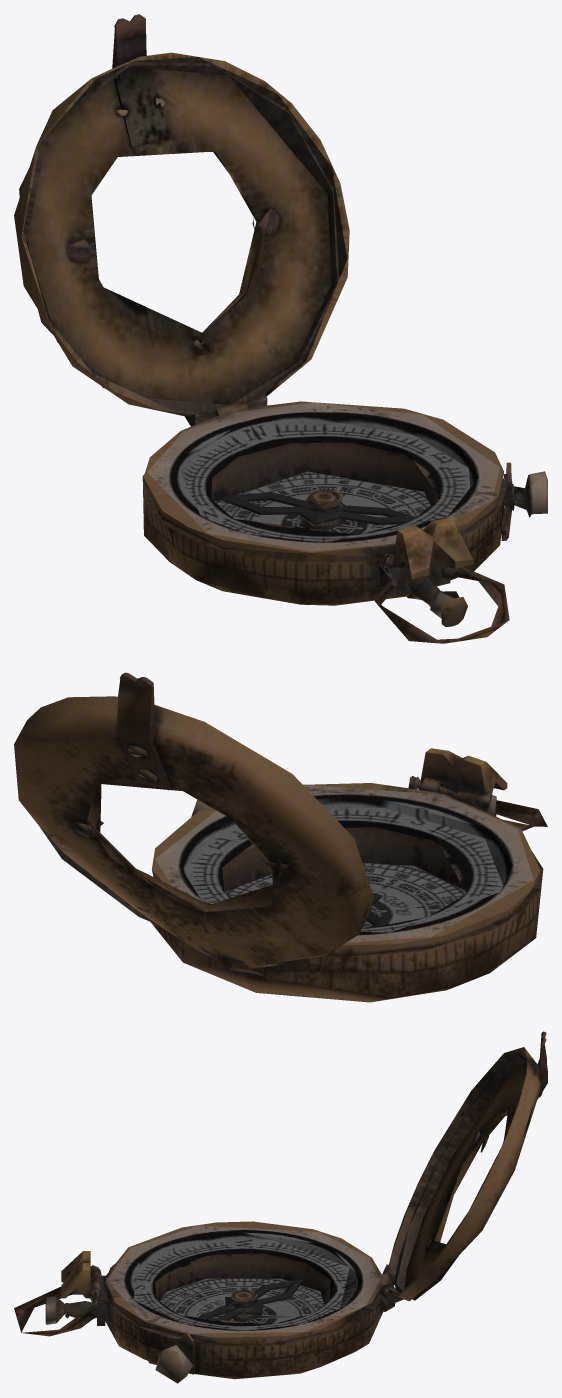
The model's file is kompass.glb.
3 views of the same model, one above another, from view 1: azimuth 30°, elevation 25°; view 2: azimuth 150°, elevation 25°; view 3: azimuth 270°, elevation 25° (orthographic). The views are drawn at different scales.
Parts seen in each view (by area): view 1: seadogs_compass; view 2: seadogs_compass; view 3: seadogs_compass.
Boxes of the visible parts, bbox=[...] form: seadogs_compass: bbox=[14, 14, 547, 643]; seadogs_compass: bbox=[14, 672, 547, 1002]; seadogs_compass: bbox=[14, 1031, 547, 1383].
Size of the model in its own units: 0.0809 by 0.0856 by 0.1423.
Materials: 1 (1 with a texture image).
